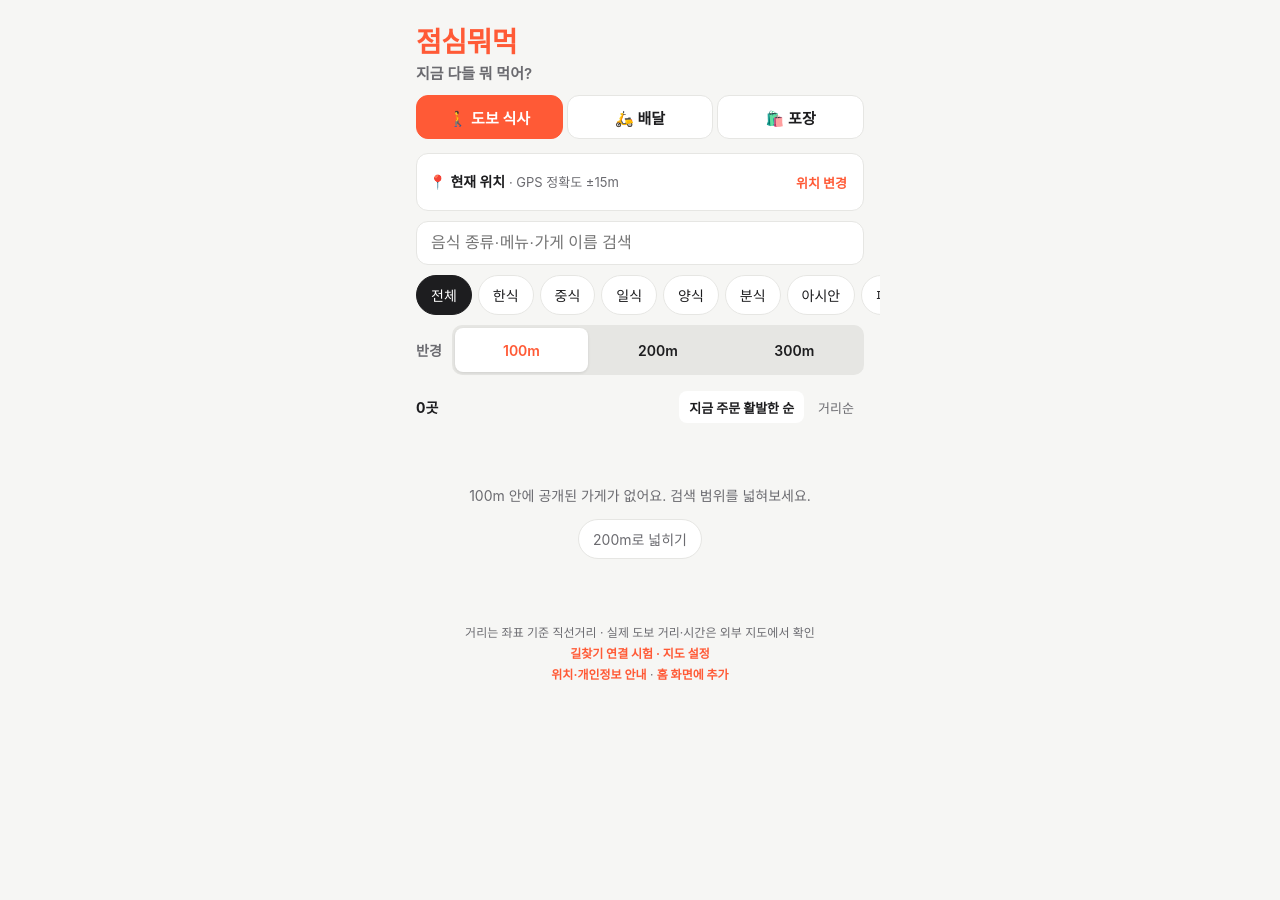
Test: 6단계 — 지금 주문 활발한 순 (서버 순위) › 배달: 배달 가능 표시, 배달 인기메뉴·가격, 제공처 이름만, 확인된 배달비·시간과 승인된 링크만
The image size is (1280, 900).
Click the tab "🛵 배달": (640, 117) [567,95,713,139]
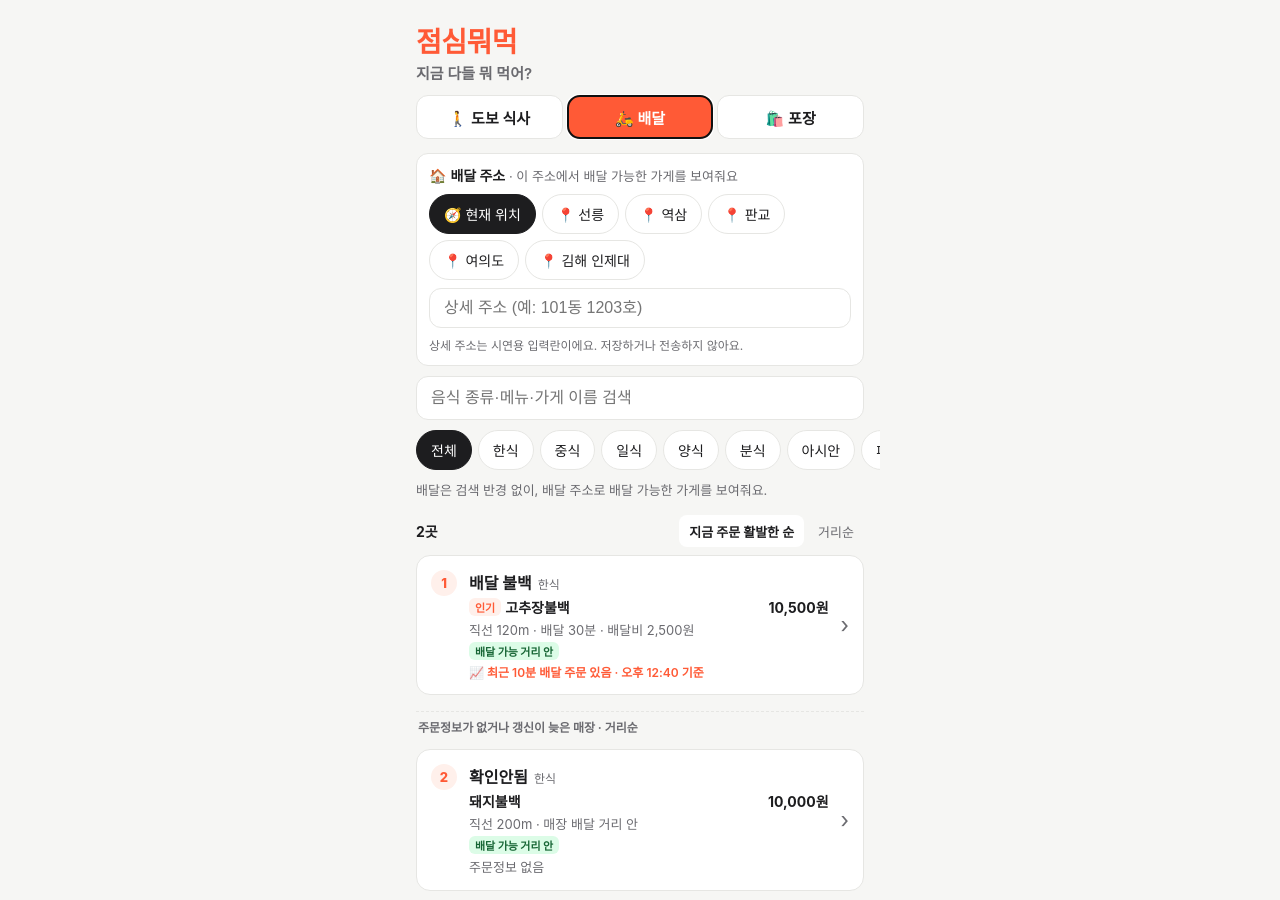
Now the button "배달 불백" shows "배달 30분 · 배달비 2,500원"
Now the button "배달 불백" shows "배달 가능"
Click the button "배달 불백": (640, 625) [417,556,863,694]
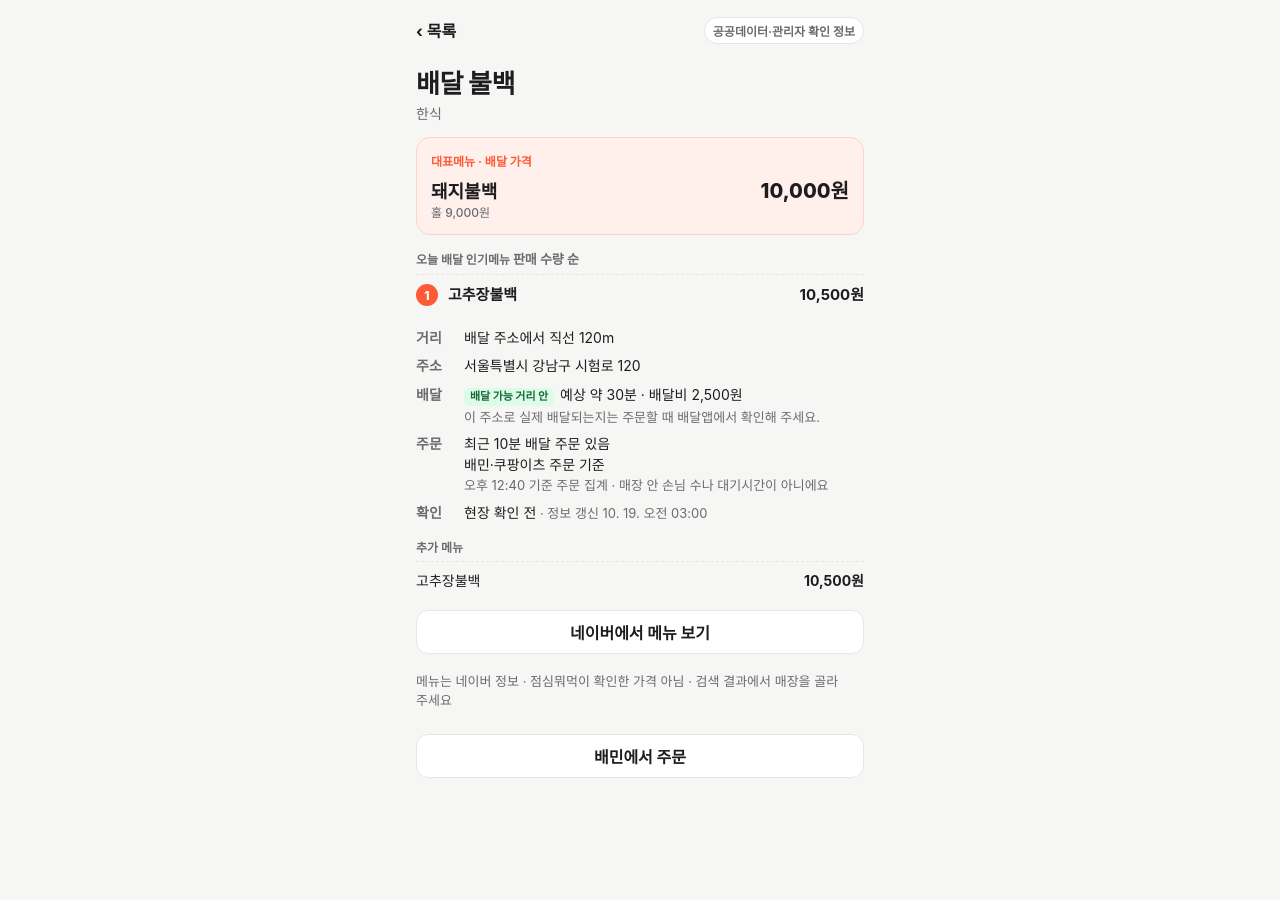
Now the dialog named "배달 불백 상세정보" shows "배민·쿠팡이츠 주문 기준"
Now the link "네이버에서 메뉴 보기" is shown, box [416,610,864,654]
